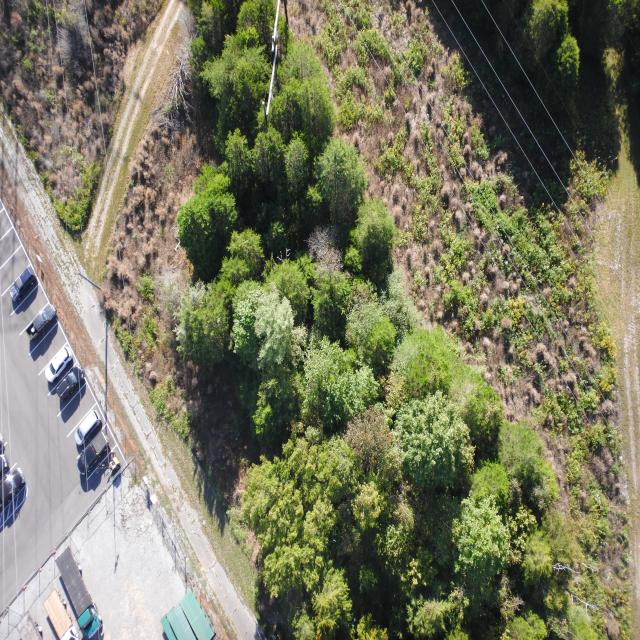Area of Interest: (194, 5, 576, 627)
